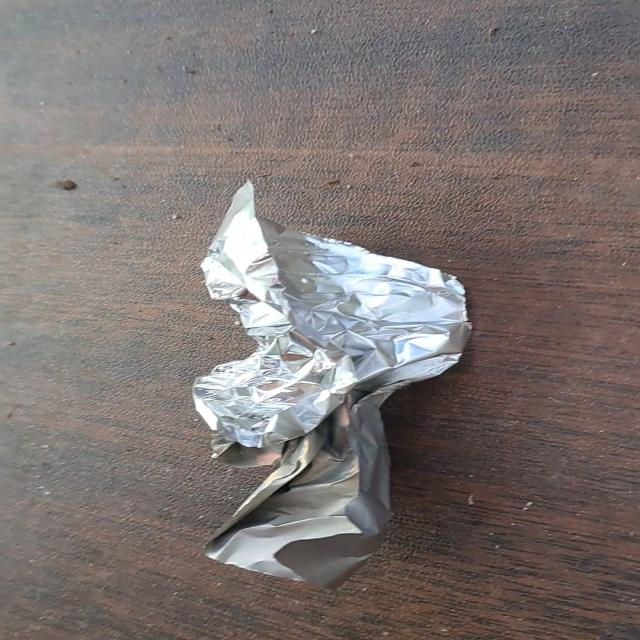Anorganik: (172, 174, 495, 594)
